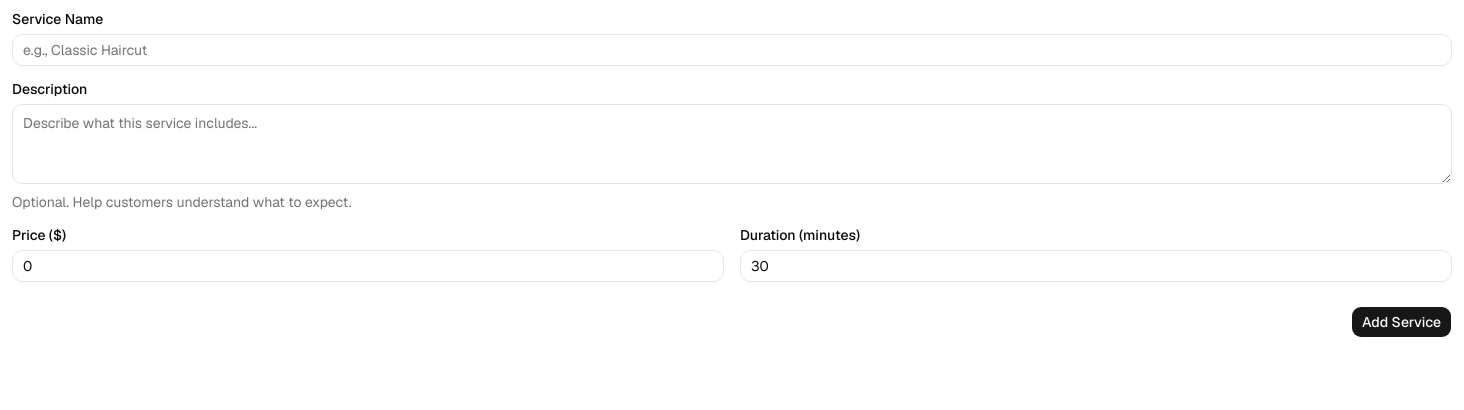
ServiceForm — Create mode › shows validation error when name is empty on submit
Click the button "Add Service".
click(1402, 322)  # box [1351,306,1452,338]
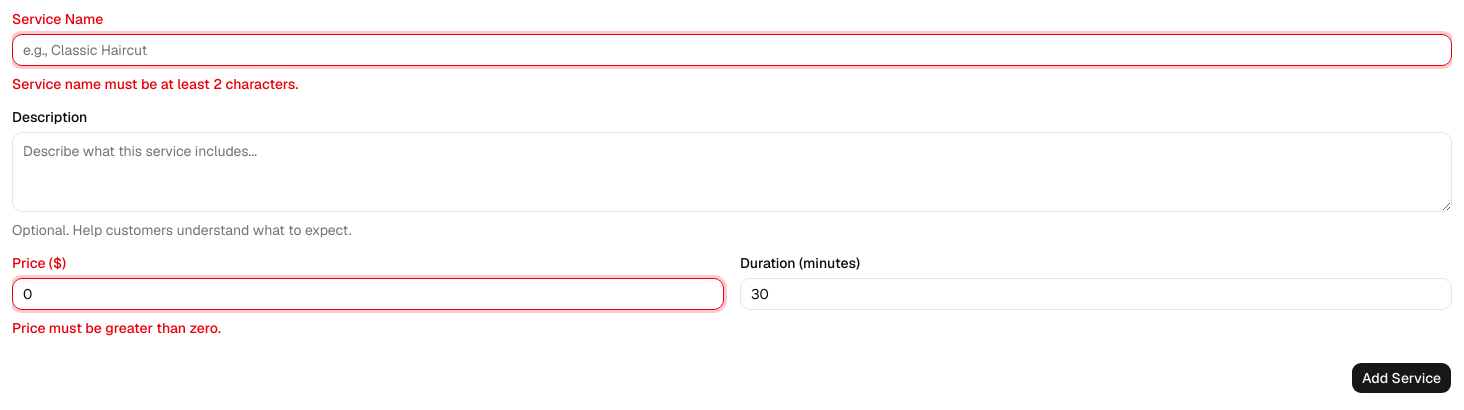
Expected: the text "Service name must be at least 2 characters." is shown, [12,75,298,93]
